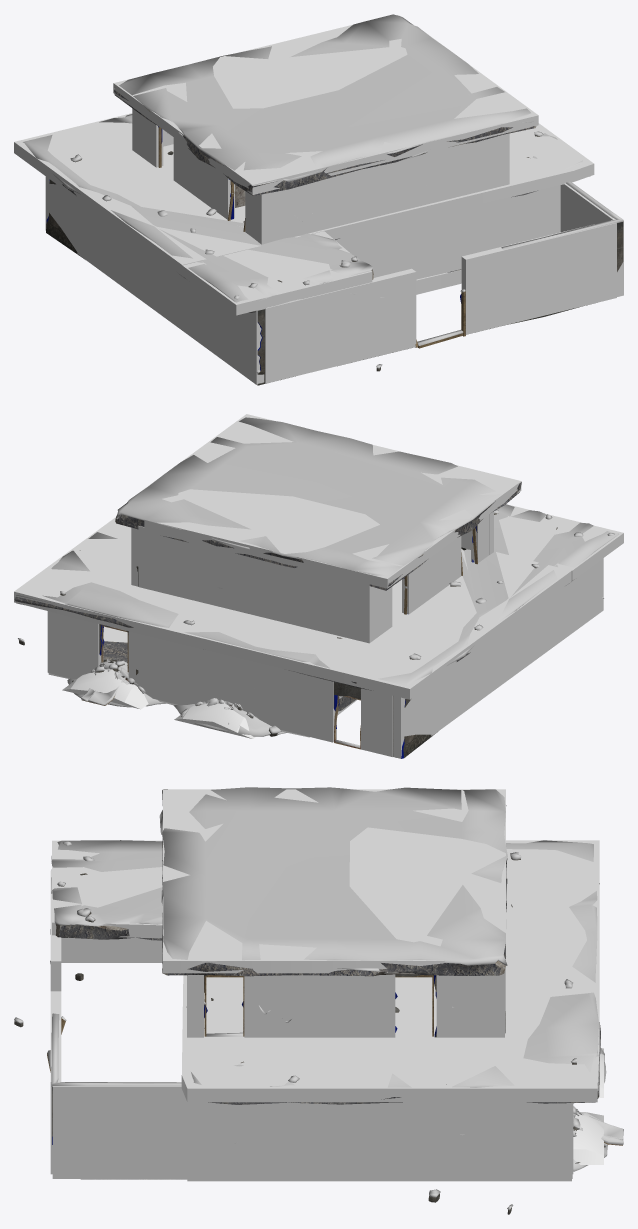
File: Big_house.fbx
The picture shows the model from 3 angles, top to bottom: view 1: azimuth 30°, elevation 25°; view 2: azimuth 150°, elevation 25°; view 3: azimuth 270°, elevation 25°; orthographic projection. The views are drawn at different scales.
Parts seen in each view (by area): view 1: big-house_col, snow, big-house; view 2: big-house_col, snow, big-house; view 3: big-house_col, snow, big-house.
Part boxes in pixels (bbox=[...]): big-house_col: bbox=[14, 24, 623, 384]; snow: bbox=[23, 14, 623, 373]; big-house: bbox=[46, 90, 623, 385]; big-house_col: bbox=[14, 414, 623, 758]; snow: bbox=[16, 417, 618, 747]; big-house: bbox=[14, 482, 574, 758]; big-house_col: bbox=[50, 789, 603, 1181]; snow: bbox=[14, 787, 623, 1210]; big-house: bbox=[14, 805, 622, 1214].
Size of the model in its own units: 1355 by 482 by 1302.
